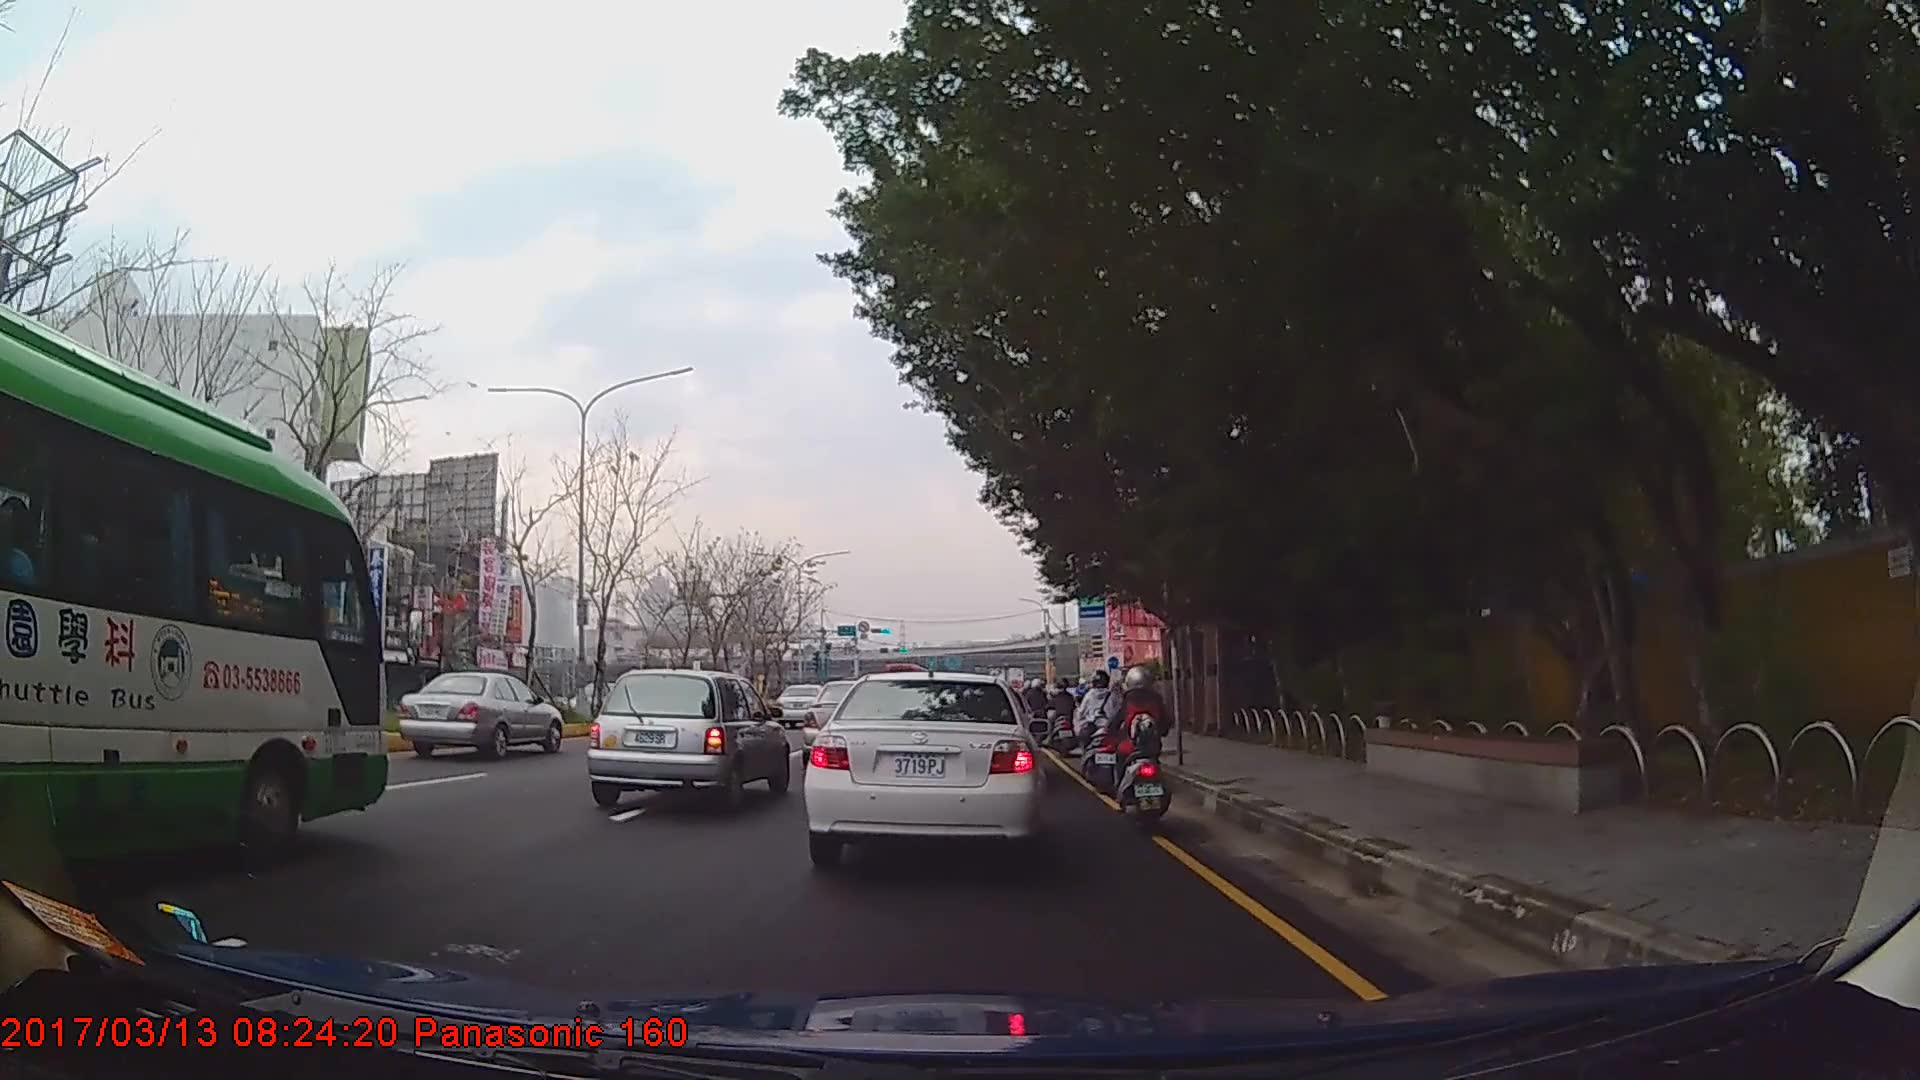rider: (1104, 661, 1164, 820), (1078, 669, 1121, 788), (1050, 680, 1077, 747)
vehicle: (0, 297, 389, 884), (800, 670, 1044, 860), (584, 668, 790, 811), (397, 670, 560, 763), (775, 683, 830, 727)
